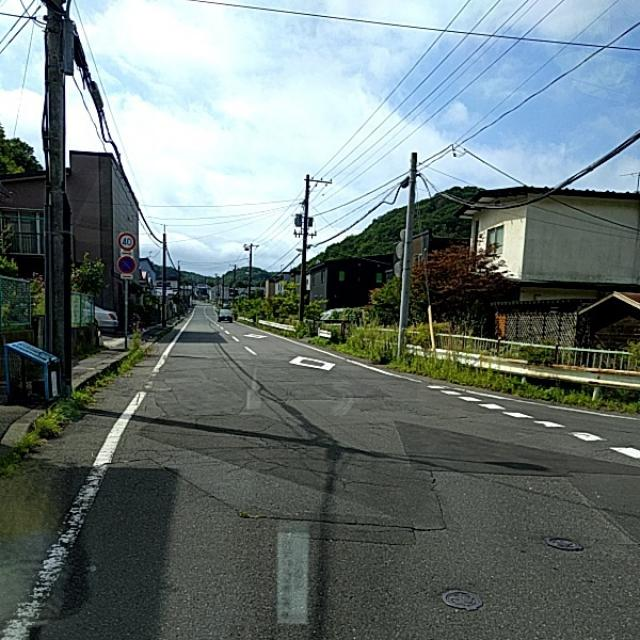pothole: (145, 364, 502, 531)
